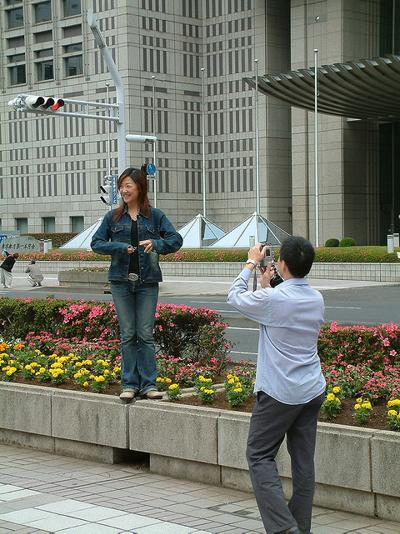person: (228, 237, 329, 534)
